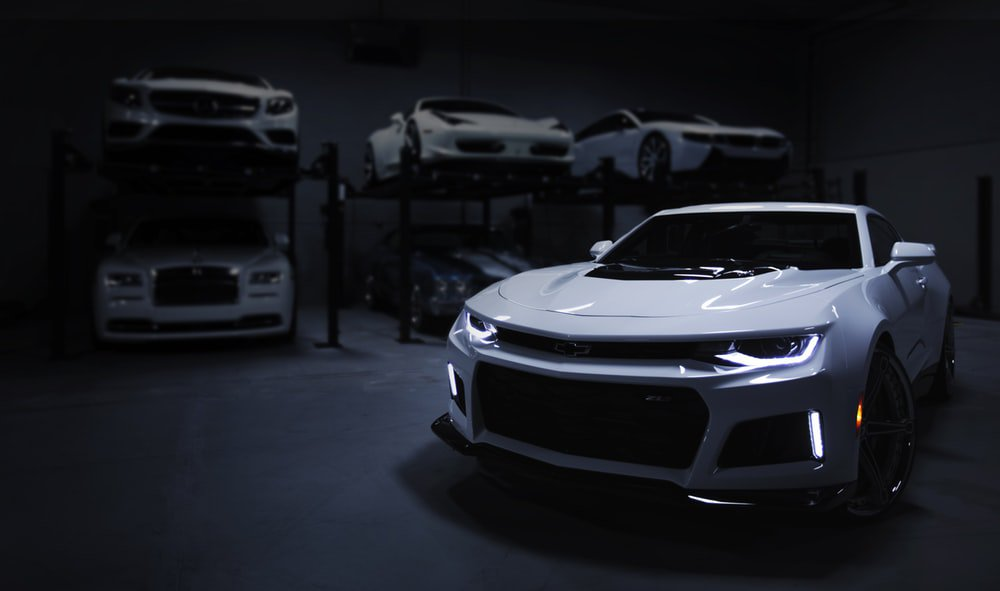car: (409, 186, 978, 536), (111, 48, 301, 191), (98, 210, 297, 341), (366, 217, 565, 334), (363, 93, 578, 176), (569, 97, 796, 175)
